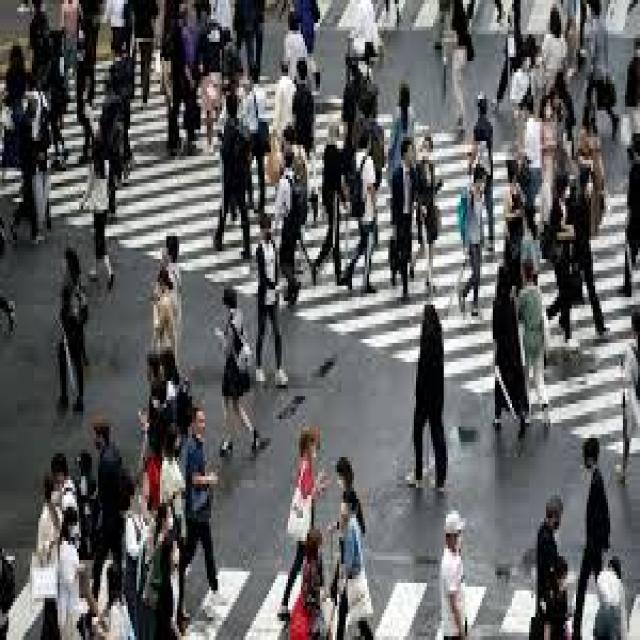Pedestrians: (403, 301, 461, 495), (182, 400, 232, 610), (213, 286, 260, 450), (282, 423, 320, 617), (574, 434, 610, 632), (55, 244, 96, 411), (493, 263, 531, 438), (254, 214, 292, 388), (520, 259, 554, 434), (439, 506, 471, 640), (152, 271, 184, 358)
